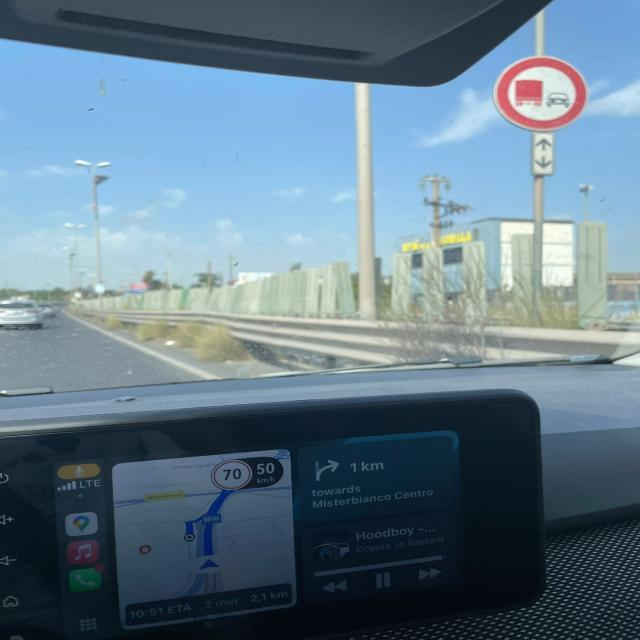forb_overtake_trucks: (490, 53, 590, 134)
